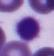D: (14, 15, 45, 42)
